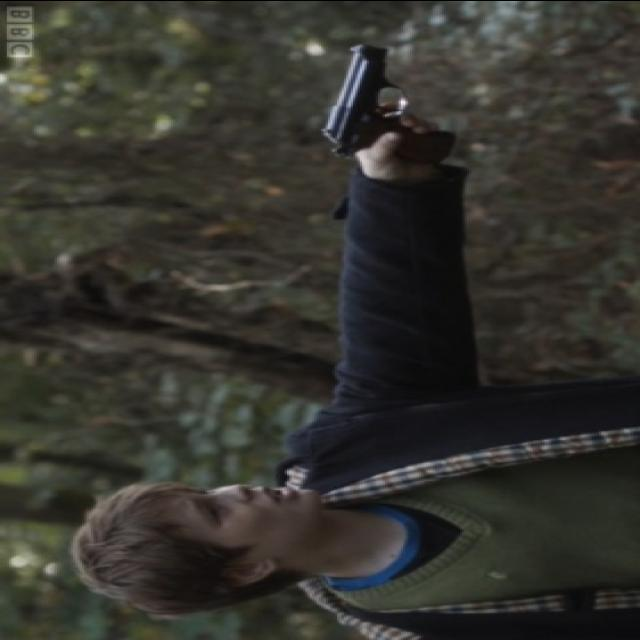weapons: (304, 33, 498, 185)
